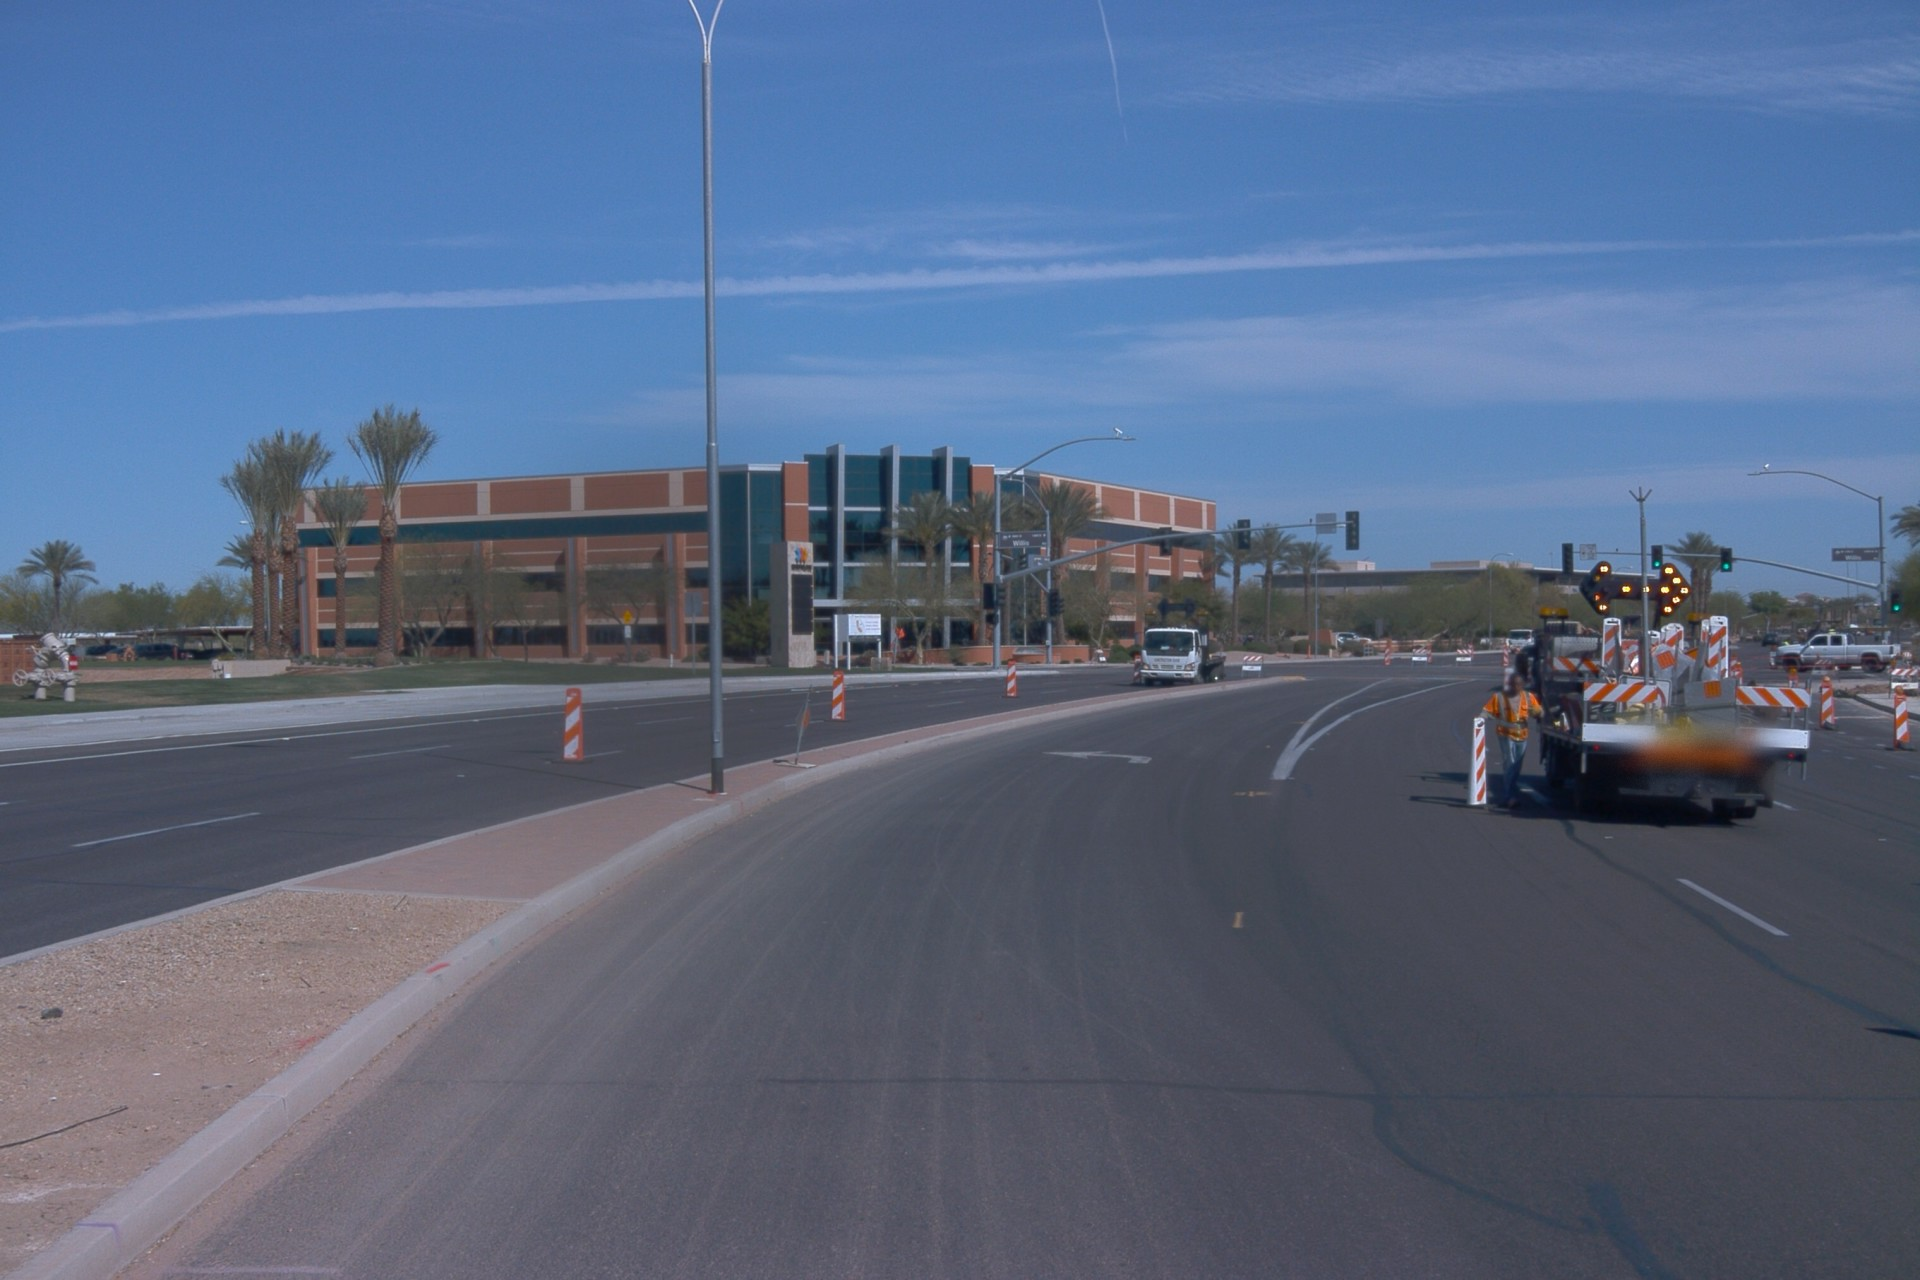TYPE_PEDESTRIAN: (1479, 672, 1546, 813)
TYPE_VEHICLE: (1503, 556, 1820, 834), (1131, 625, 1228, 695), (1770, 633, 1908, 681), (1530, 616, 1582, 667), (1506, 625, 1539, 656), (1337, 632, 1375, 649), (1511, 649, 1523, 674)
